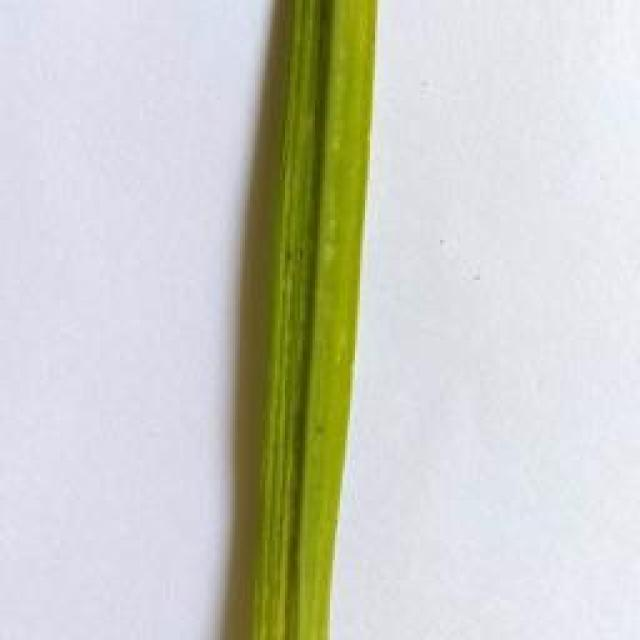Healthy-Plant: (245, 0, 375, 640)
